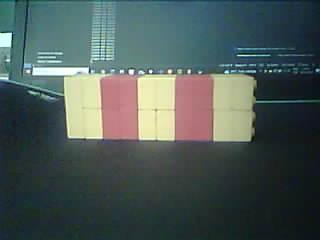lego: (63, 72, 257, 142)
